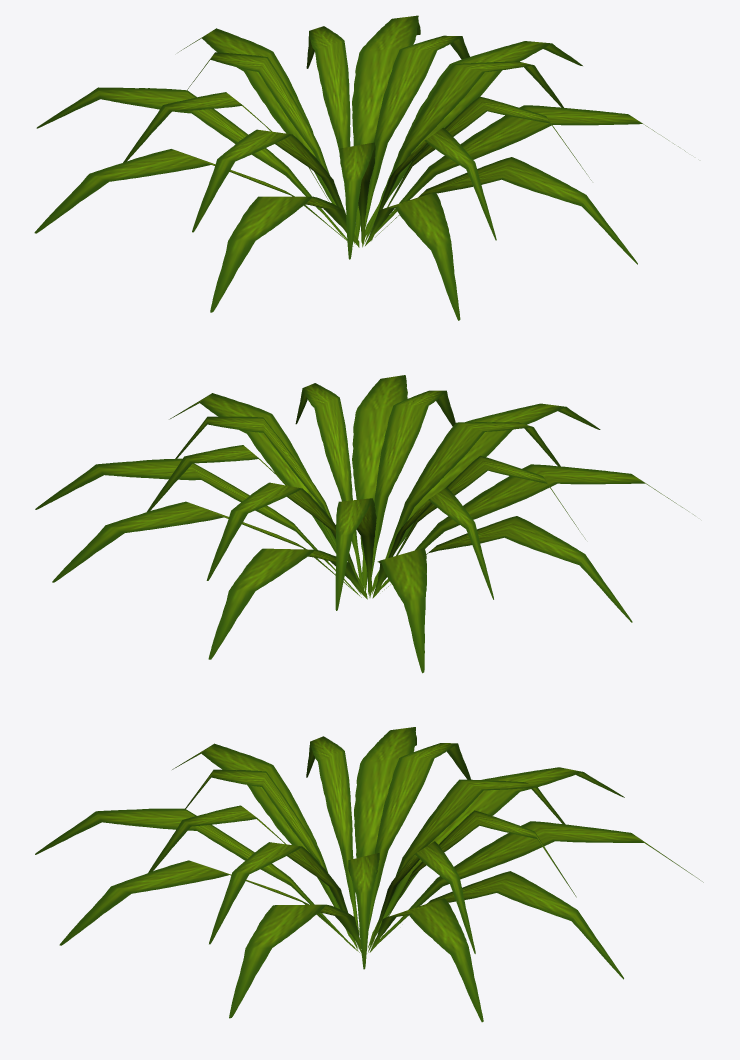
The model's file is bush14.obj.
The picture shows the model from 3 angles, top to bottom: view 1: azimuth 30°, elevation 25°; view 2: azimuth 150°, elevation 25°; view 3: azimuth 270°, elevation 25°; orthographic projection. The views are drawn at different scales.
Parts seen in each view (by area): view 1: Duplicate05, Duplicate03, Duplicate02, Duplicate01, Duplicate04, Triangles; view 2: Duplicate05, Duplicate03, Duplicate02, Triangles, Duplicate04, Duplicate01; view 3: Duplicate05, Duplicate03, Duplicate02, Triangles, Duplicate01, Duplicate04.
Boxes of the visible parts, x1,y1,x2,y2 form: Duplicate05: (123,26,591,259); Duplicate03: (210,105,685,320); Duplicate02: (34,87,353,246); Duplicate01: (352,15,420,239); Duplicate04: (365,41,582,236); Triangles: (178,28,346,233); Duplicate05: (147,383,585,610); Duplicate03: (169,375,694,593); Duplicate02: (372,516,632,673); Triangles: (208,548,367,659); Duplicate04: (35,458,360,596); Duplicate01: (52,501,361,597); Duplicate05: (148,736,576,969); Duplicate03: (35,743,360,1018); Duplicate02: (354,727,624,944); Triangles: (377,821,703,944); Duplicate01: (427,871,623,979); Duplicate04: (369,898,483,1022).
Bounding box in the file's own units: 54.38 × 13.5 × 55.66.
